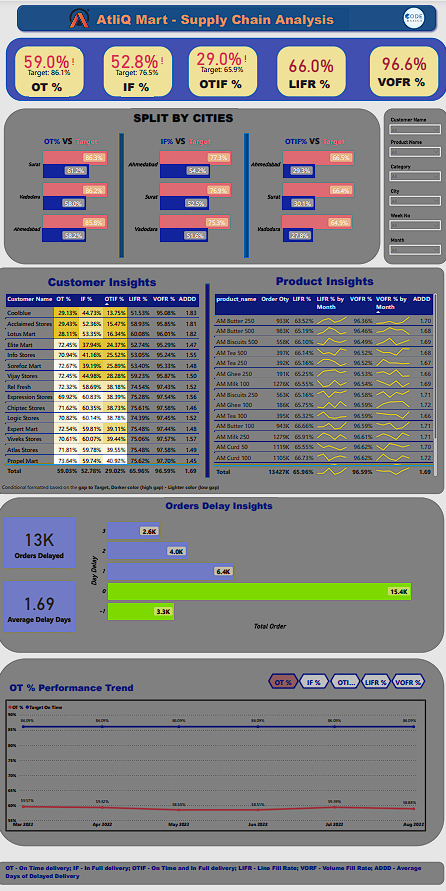

What the dashboard file says about the page in this screenshot:
{"tool":"powerbi","page":{"name":"Main Page","canvas":[1323,2630],"ordinal":1},"visuals":[{"type":"shape","box":[53,2,1246,92],"z":0},{"type":"actionButton","box":[796,1978,91,45],"z":0,"group":"g1"},{"type":"textbox","box":[249,21,787,67],"z":1000},{"type":"actionButton","box":[887,1978,91,45],"z":1000,"group":"g1"},{"type":"image","box":[196,15,91,67],"z":2000},{"type":"actionButton","box":[1068,1978,91,45],"z":2000,"group":"g1"},{"type":"image","box":[1171,9,108,79],"z":3000},{"type":"actionButton","box":[978,1978,91,45],"z":3000,"group":"g1"},{"type":"shape","box":[26,106,1297,186],"z":4000},{"type":"actionButton","box":[1159,1978,101,45],"z":4000,"group":"g1"},{"type":"shape","box":[53,130,204,150],"z":5000},{"type":"lineChart","fields":{"Y":["key Measure.OT %","key Measure.Target On Time"],"Category":["dim_date.mmm_yy"]},"box":[26,2057,1234,386],"z":5000,"group":"g1"},{"type":"kpi","title":"OT %","fields":{"Indicator":["key Measure.OT %"],"Goal":["key Measure.Target On Time"],"TrendLine":["fact_order_lines.customer_id"]},"box":[68,141,174,98],"z":6000},{"type":"textbox","box":[33,1996,389,53],"z":6000,"group":"g1"},{"type":"shape","box":[313,130,204,150],"z":7000},{"type":"shape","box":[562,130,204,150],"z":8000},{"type":"shape","box":[822,130,204,150],"z":9000},{"type":"shape","box":[1095,130,204,150],"z":10000},{"type":"kpi","title":"OT %","fields":{"Goal":["key Measure.Target In Full"],"TrendLine":["fact_order_lines.customer_id"],"Indicator":["key Measure.IF %"]},"box":[327,143,175,93],"z":11000},{"type":"kpi","title":"OT %","fields":{"Goal":["key Measure.Target On Time & In Full"],"TrendLine":["fact_order_lines.customer_id"],"Indicator":["key Measure.OTIF %"]},"box":[577,143,174,80],"z":12000},{"type":"card","title":"OT %","fields":{"Values":["key Measure.LIFR %"]},"box":[833,152,182,62],"z":13000},{"type":"card","title":"OT %","fields":{"Values":["key Measure.VOFR %"]},"box":[1108,143,177,71],"z":14000},{"type":"textbox","box":[97,223,115,57],"z":15000},{"type":"textbox","box":[367,222,96,58],"z":16000},{"type":"textbox","box":[591,214,145,60],"z":17000},{"type":"textbox","box":[852,214,144,62],"z":18000},{"type":"textbox","box":[1114,209,165,60],"z":19000},{"type":"shape","box":[20,314,1107,459],"z":20000},{"type":"clusteredBarChart","title":"OT %","fields":{"Category":["dim_customers.city"],"Y":["key Measure.Target On Time","key Measure.OT %"]},"box":[43,388,338,365],"z":21000},{"type":"clusteredBarChart","title":"OT %","fields":{"Category":["dim_customers.city"],"Y":["key Measure.Target In Full","key Measure.IF %"]},"box":[381,388,362,365],"z":22000},{"type":"clusteredBarChart","title":"OT %","fields":{"Category":["dim_customers.city"],"Y":["key Measure.Target On Time & In Full","key Measure.OTIF %"]},"box":[740,388,368,365],"z":23000},{"type":"shape","box":[360,388,13,365],"z":24000},{"type":"shape","box":[728,388,12,365],"z":25000},{"type":"textbox","box":[134,378,167,56],"z":26000},{"type":"textbox","box":[476,378,167,54],"z":27000},{"type":"textbox","box":[842,378,192,54],"z":28000},{"type":"textbox","box":[397,314,312,63],"z":29000},{"type":"shape","box":[1136,314,187,459],"z":30000},{"type":"slicer","fields":{"Values":["dim_customers.customer_name"]},"box":[1145,334,169,72],"z":31000},{"type":"slicer","fields":{"Values":["dim_products.category"]},"box":[1145,472,169,72],"z":32000},{"type":"slicer","fields":{"Values":["dim_products.product_name"]},"box":[1145,400,169,72],"z":33000},{"type":"slicer","fields":{"Values":["dim_customers.city"]},"box":[1145,544,169,72],"z":34000},{"type":"slicer","fields":{"Values":["dim_date.week_no"]},"box":[1145,616,169,72],"z":35000},{"type":"slicer","fields":{"Values":["dim_date.mmm_yy"]},"box":[1145,688,169,72],"z":36000},{"type":"shape","box":[0,782,1315,667],"z":37000},{"type":"tableEx","fields":{"Values":["dim_products.product_name","Sum(fact_order_lines.order_qty)","key Measure.LIFR %","SparklineData(key Measure.LIFR %_[dim_date.mmm_yy])","key Measure.VOFR %","SparklineData(key Measure.VOFR %_[dim_date.mmm_yy])","key Measure.ADDD"]},"box":[635,854,664,547],"z":38000},{"type":"tableEx","fields":{"Values":["dim_customers.customer_name","key Measure.OT %","key Measure.IF %","key Measure.OTIF %","key Measure.LIFR %","key Measure.VOFR %","key Measure.ADDD"]},"box":[20,854,585,547],"z":39000},{"type":"shape","box":[612,831,12,570],"z":40000},{"type":"textbox","box":[145,796,343,58],"z":41000},{"type":"textbox","box":[815,795,303,59],"z":42000},{"type":"textbox","box":[11,1416,664,33],"z":43000},{"type":"shape","box":[0,1459,1315,458],"z":44000},{"type":"textbox","box":[491,1459,334,50],"z":45000},{"type":"card","fields":{"Values":["key Measure.Day Delay Count"]},"box":[20,1517,208,149],"z":46000},{"type":"card","fields":{"Values":["key Measure.ADDD"]},"box":[20,1705,208,149],"z":47000},{"type":"clusteredBarChart","title":"OT %","fields":{"Category":["fact_order_lines.day delay"],"Y":["Count(fact_order_lines.order_id)"]},"box":[268,1517,1011,337],"z":48000},{"type":"shape","box":[0,1934,1315,553],"z":49000},{"type":"group","id":"g1","title":"OT% Trend","box":[26,1978,1234,465],"z":54000},{"type":"shape","box":[0,2531,1315,68],"z":55000},{"type":"textbox","box":[21,2534,1274,62],"z":56000}]}

Visuals, with their boxes in screenshot pixels (x1, y1, x2, y2), scaled from the page's 1323x2630 canvas onto the 446x891 screenshot:
shape: bbox=[18, 1, 438, 32]
actionButton: bbox=[268, 670, 299, 685]
textbox: bbox=[84, 7, 349, 30]
actionButton: bbox=[299, 670, 330, 685]
image: bbox=[66, 5, 97, 28]
actionButton: bbox=[360, 670, 391, 685]
image: bbox=[395, 3, 431, 30]
actionButton: bbox=[330, 670, 360, 685]
shape: bbox=[9, 36, 445, 99]
actionButton: bbox=[391, 670, 425, 685]
shape: bbox=[18, 44, 87, 95]
lineChart - key Measure.OT % x key Measure.Target On Time: bbox=[9, 697, 425, 828]
"OT %" kpi: bbox=[23, 48, 82, 81]
textbox: bbox=[11, 676, 142, 694]
shape: bbox=[106, 44, 174, 95]
shape: bbox=[189, 44, 258, 95]
shape: bbox=[277, 44, 346, 95]
shape: bbox=[369, 44, 438, 95]
"OT %" kpi: bbox=[110, 48, 169, 80]
"OT %" kpi: bbox=[195, 48, 253, 76]
"OT %" card: bbox=[281, 51, 342, 72]
"OT %" card: bbox=[374, 48, 433, 72]
textbox: bbox=[33, 76, 71, 95]
textbox: bbox=[124, 75, 156, 95]
textbox: bbox=[199, 72, 248, 93]
textbox: bbox=[287, 72, 336, 94]
textbox: bbox=[376, 71, 431, 91]
shape: bbox=[7, 106, 380, 262]
"OT %" clusteredBarChart: bbox=[14, 131, 128, 255]
"OT %" clusteredBarChart: bbox=[128, 131, 250, 255]
"OT %" clusteredBarChart: bbox=[249, 131, 374, 255]
shape: bbox=[121, 131, 126, 255]
shape: bbox=[245, 131, 249, 255]
textbox: bbox=[45, 128, 101, 147]
textbox: bbox=[160, 128, 217, 146]
textbox: bbox=[284, 128, 349, 146]
textbox: bbox=[134, 106, 239, 128]
shape: bbox=[383, 106, 445, 262]
slicer - dim_customers.customer_name: bbox=[386, 113, 443, 138]
slicer - dim_products.category: bbox=[386, 160, 443, 184]
slicer - dim_products.product_name: bbox=[386, 136, 443, 160]
slicer - dim_customers.city: bbox=[386, 184, 443, 209]
slicer - dim_date.week_no: bbox=[386, 209, 443, 233]
slicer - dim_date.mmm_yy: bbox=[386, 233, 443, 257]
shape: bbox=[0, 265, 443, 491]
tableEx - dim_products.product_name x Sum(fact_order_lines.order_qty): bbox=[214, 289, 438, 475]
tableEx - dim_customers.customer_name x key Measure.OT %: bbox=[7, 289, 204, 475]
shape: bbox=[206, 282, 210, 475]
textbox: bbox=[49, 270, 165, 289]
textbox: bbox=[275, 269, 377, 289]
textbox: bbox=[4, 480, 228, 491]
shape: bbox=[0, 494, 443, 649]
textbox: bbox=[166, 494, 278, 511]
card - key Measure.Day Delay Count: bbox=[7, 514, 77, 564]
card - key Measure.ADDD: bbox=[7, 578, 77, 628]
"OT %" clusteredBarChart: bbox=[90, 514, 431, 628]
shape: bbox=[0, 655, 443, 843]
"OT% Trend" group: bbox=[9, 670, 425, 828]
shape: bbox=[0, 857, 443, 880]
textbox: bbox=[7, 858, 437, 879]
